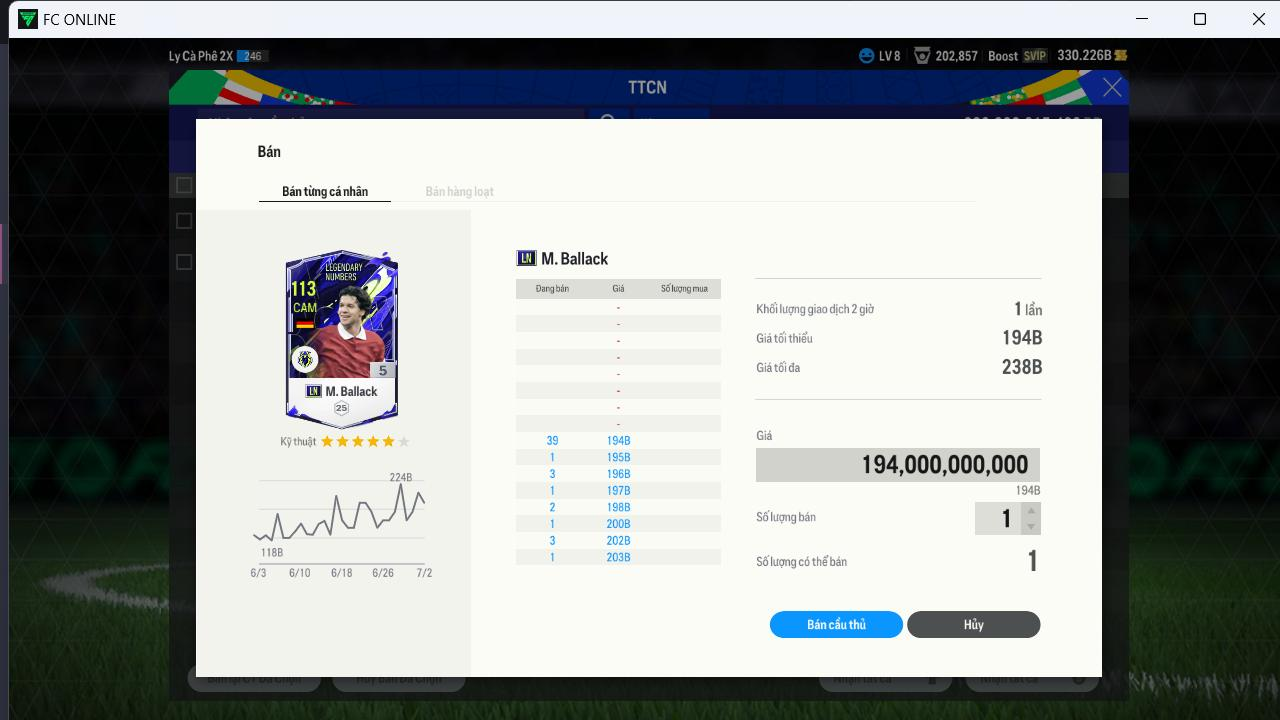buttonban: (769, 609, 902, 639)
buttonhuy: (913, 608, 1037, 643)
max: (992, 355, 1051, 382)
min: (1002, 323, 1051, 348)
